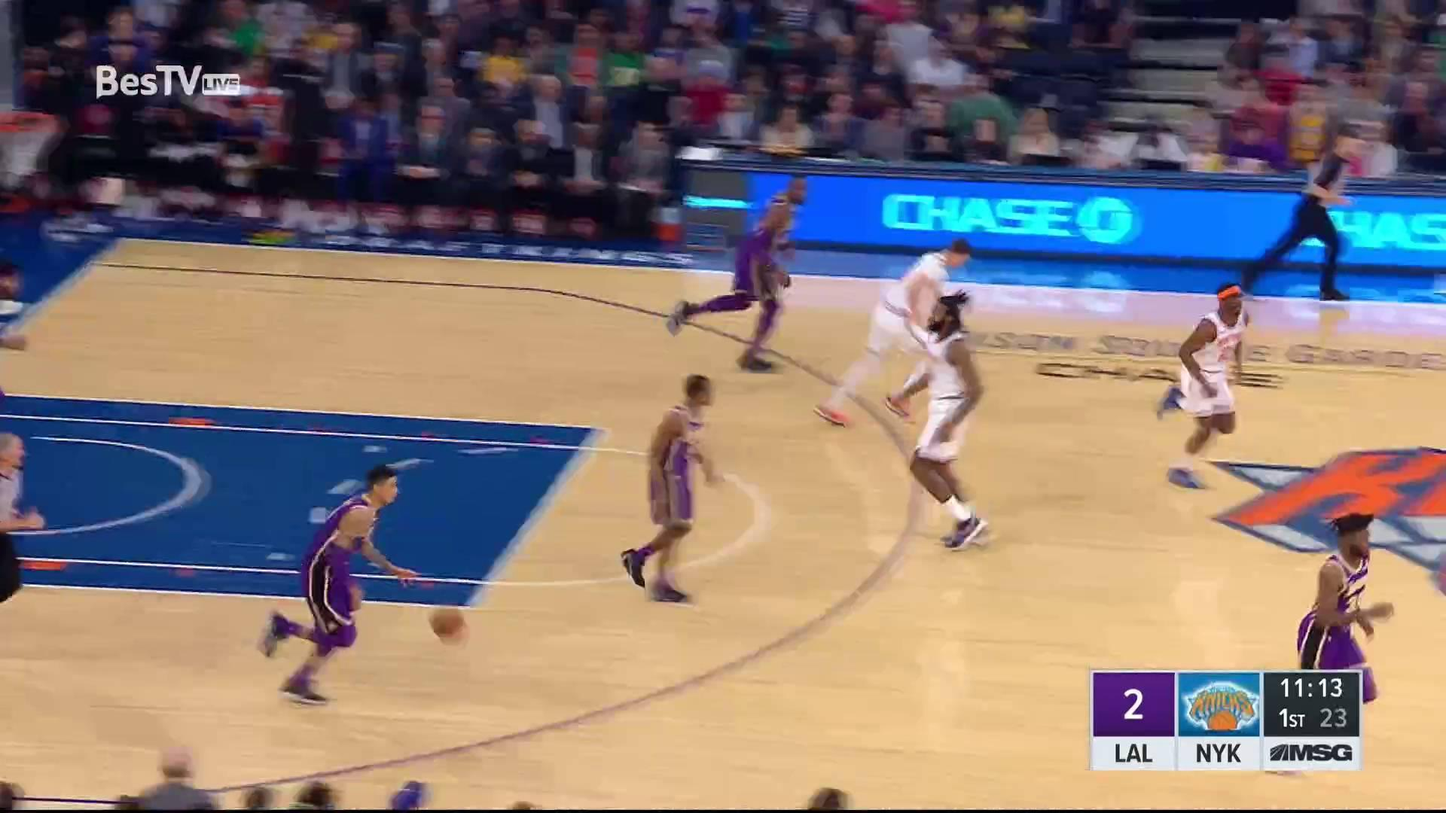basketball: (425, 601, 467, 641)
